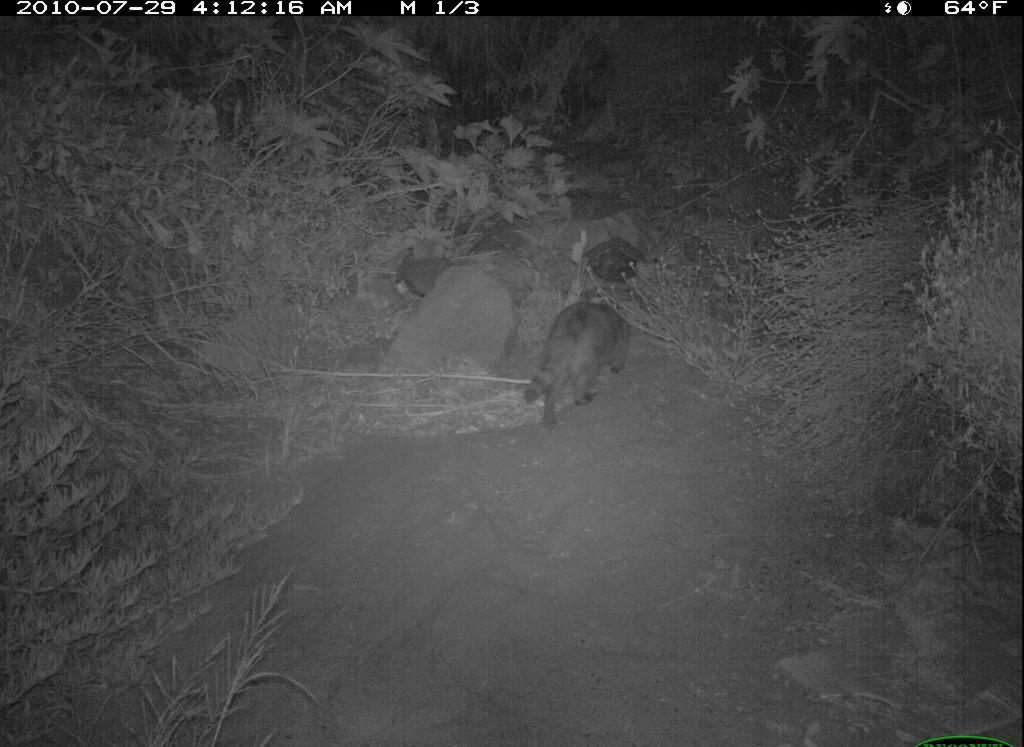raccoon: (523, 295, 629, 440)
